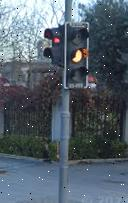yellowlight: (65, 22, 86, 90)
